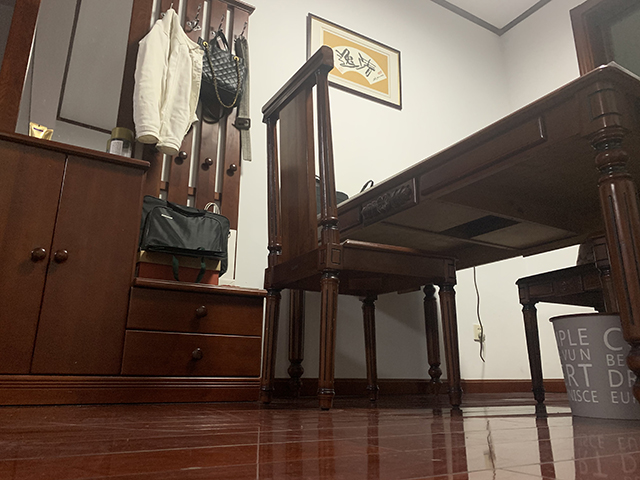cabinet: (1, 128, 271, 409)
stool: (259, 45, 465, 418), (515, 242, 606, 403)
table: (260, 60, 640, 413)
trashcan: (548, 311, 640, 420)
